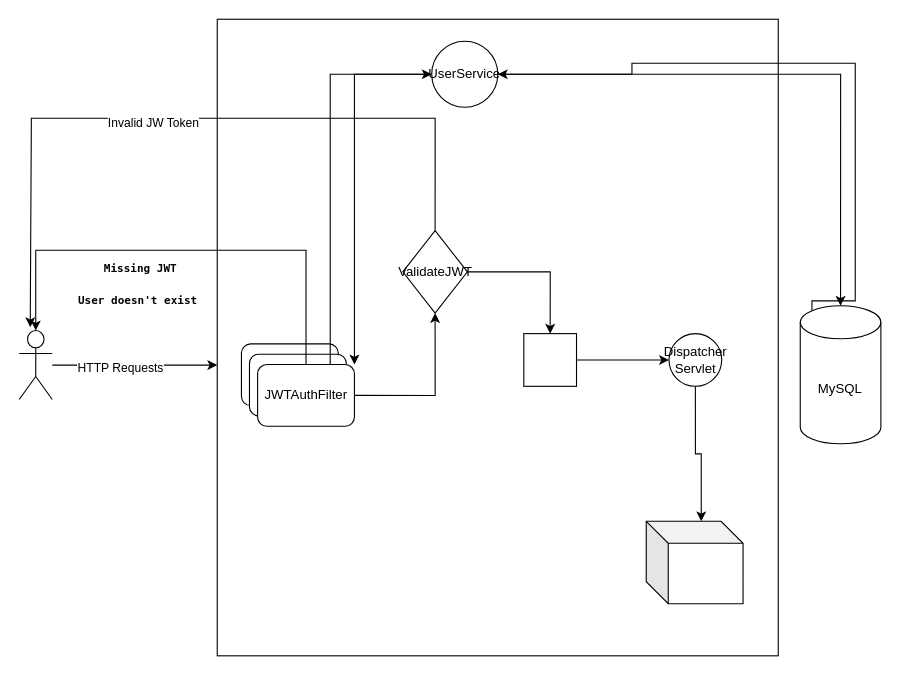
This 901x675 diagram has some shape labels left out. The centre of each missing label's shape, as x and y in pixels:
"Client" goes at pixel 35 364.
"Controller" goes at pixel 694 562.
"Security" goes at pixel 550 359.
